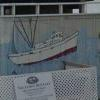Boat: (6, 35, 79, 65)
